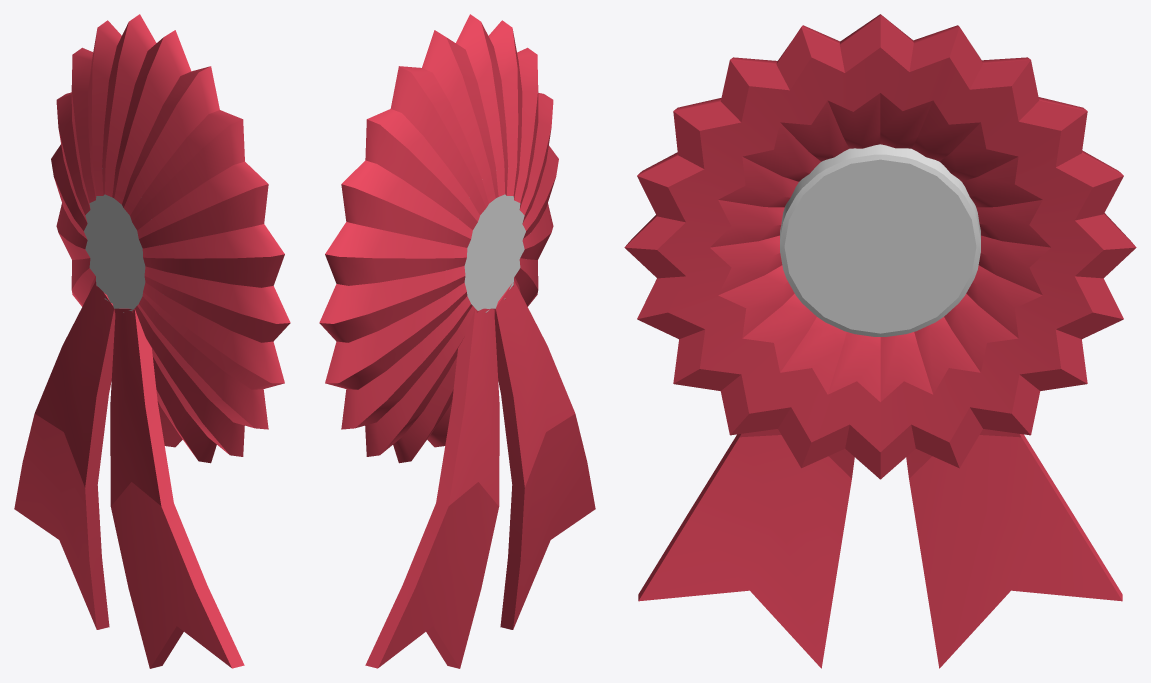
Rendered from coccarda.fbx.
3 renders of one model, left to right at view 1: azimuth 30°, elevation 25°; view 2: azimuth 150°, elevation 25°; view 3: azimuth 270°, elevation 25°, orthographic. The views are drawn at different scales.
Visible parts, largest first — view 1: coccarda; view 2: coccarda; view 3: coccarda.
Part boxes in pixels (<box>): coccarda: <box>14,14,290,668</box>; coccarda: <box>319,14,595,668</box>; coccarda: <box>624,14,1136,668</box>.
Size of the model in its own units: 8.88 by 62.8 by 43.2.
